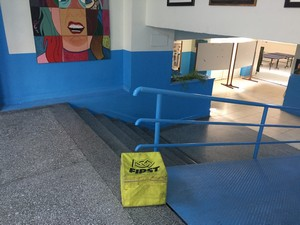cube: (121, 153, 170, 208)
